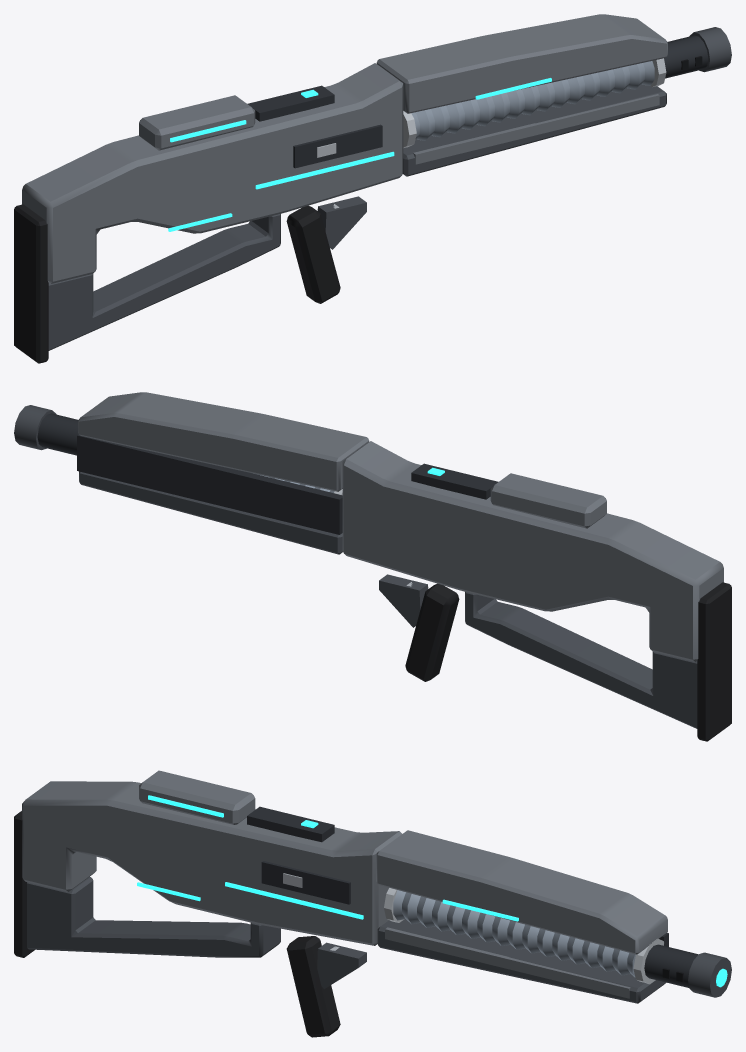
The model's file is opr_wpn_kinetic_accelerator_b.glb.
3 views of the same model, one above another, from view 1: azimuth 30°, elevation 25°; view 2: azimuth 150°, elevation 25°; view 3: azimuth 330°, elevation 25° (orthographic).
Parts seen in each view (by area): view 1: mesh_intact; view 2: mesh_intact; view 3: mesh_intact.
Boxes of the visible parts, x1,y1,x2,y2 form: mesh_intact: (14, 14, 731, 363); mesh_intact: (14, 392, 731, 741); mesh_intact: (14, 770, 731, 1037).
Bounding box in the file's own units: 0.9477 × 0.2826 × 0.078.
